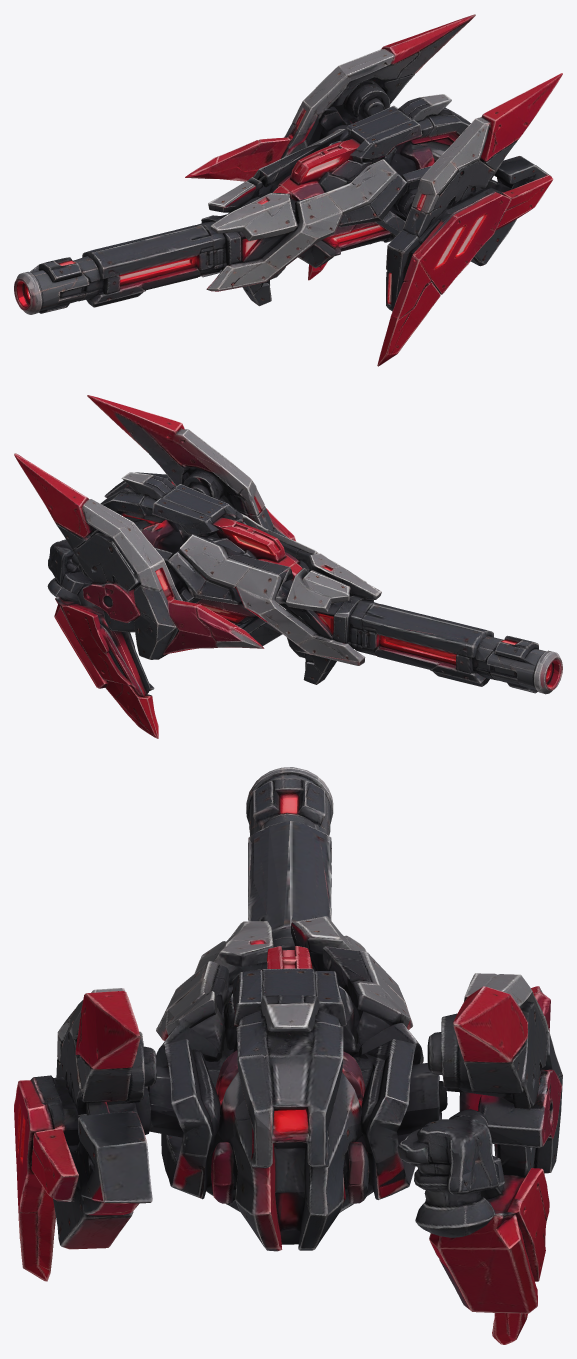
The model's file is drone-red-ranged.glb.
3 views of the same model, one above another, from view 1: azimuth 30°, elevation 25°; view 2: azimuth 150°, elevation 25°; view 3: azimuth 270°, elevation 25° (orthographic). The views are drawn at different scales.
Size of the model in its own units: 1.9 by 0.8584 by 0.9073.
Materials: 1 (1 with a texture image).
